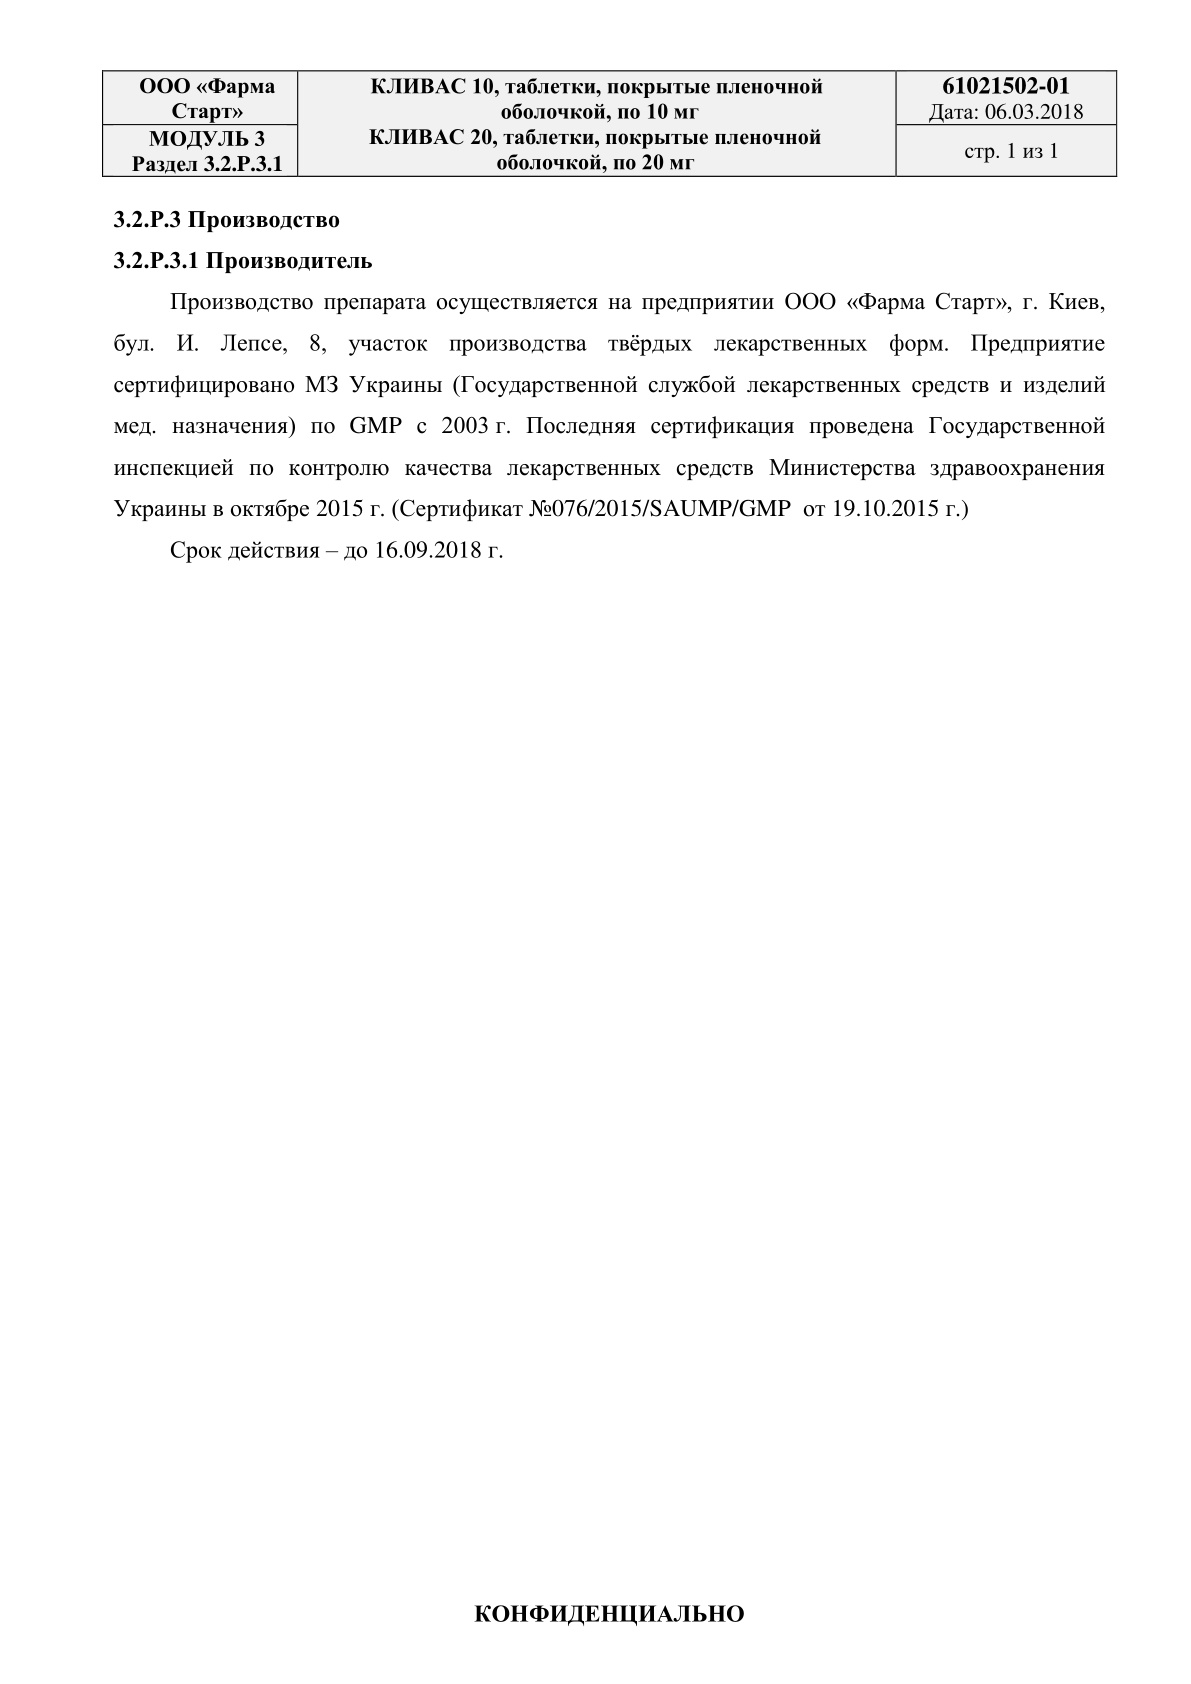merged_cells: (101, 70, 1119, 179)
